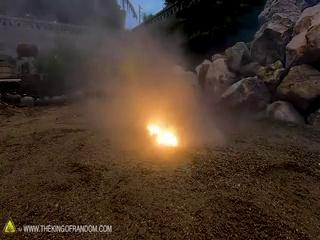Fire: (134, 116, 183, 148)
